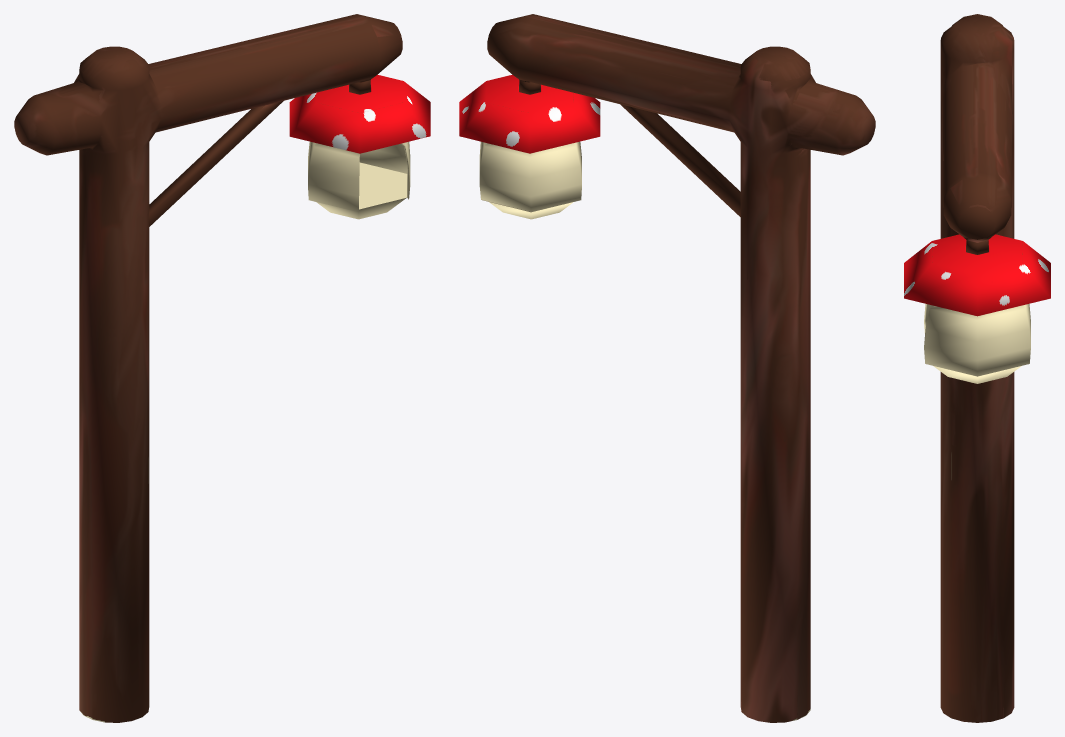
File: Farolito.blend1.fbx
The picture shows the model from 3 angles, left to right: view 1: azimuth 30°, elevation 25°; view 2: azimuth 150°, elevation 25°; view 3: azimuth 270°, elevation 25°; orthographic projection. The views are drawn at different scales.
Parts seen in each view (by area): view 1: Cilindro; view 2: Cilindro; view 3: Cilindro.
Boxes of the visible parts, x1=… form: Cilindro: x1=14, y1=14, x2=430, y2=722; Cilindro: x1=459, y1=14, x2=875, y2=722; Cilindro: x1=904, y1=14, x2=1050, y2=722.
Bounding box in the file's own units: 461 × 704 × 138.
